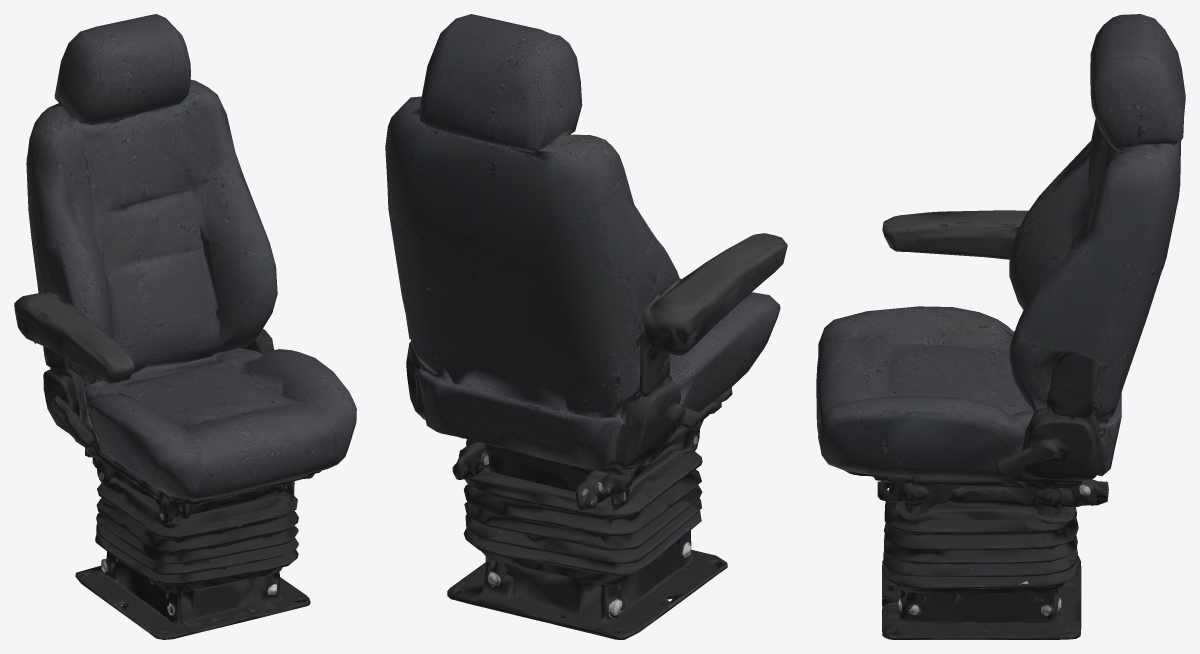
File: silla-conductor.glb
3 views of the same model, side by side, from view 1: azimuth 30°, elevation 25°; view 2: azimuth 150°, elevation 25°; view 3: azimuth 270°, elevation 25° (orthographic). The views are drawn at different scales.
Size of the model in its own units: 0.934 by 1.9 by 1.12.
Materials: 1 (1 with a texture image).
